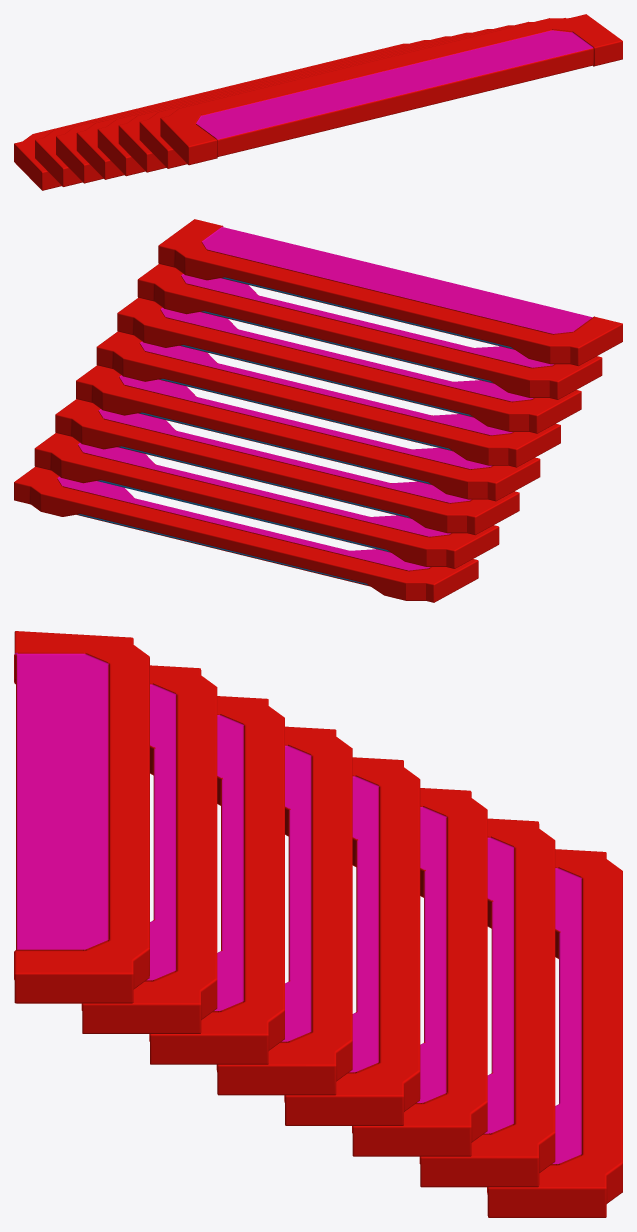
The model's file is Scifi2_StairA.fbx.
The picture shows the model from 3 angles, top to bottom: view 1: azimuth 30°, elevation 25°; view 2: azimuth 150°, elevation 25°; view 3: azimuth 270°, elevation 25°; orthographic projection. The views are drawn at different scales.
Parts seen in each view (by area): view 1: StairA.001; view 2: StairA.001; view 3: StairA.001.
Boxes of the visible parts, x1=… form: StairA.001: x1=14, y1=14, x2=622, y2=190; StairA.001: x1=14, y1=219, x2=622, y2=602; StairA.001: x1=14, y1=631, x2=622, y2=1217.
Bounding box in the file's own units: 600 × 201 × 450.
